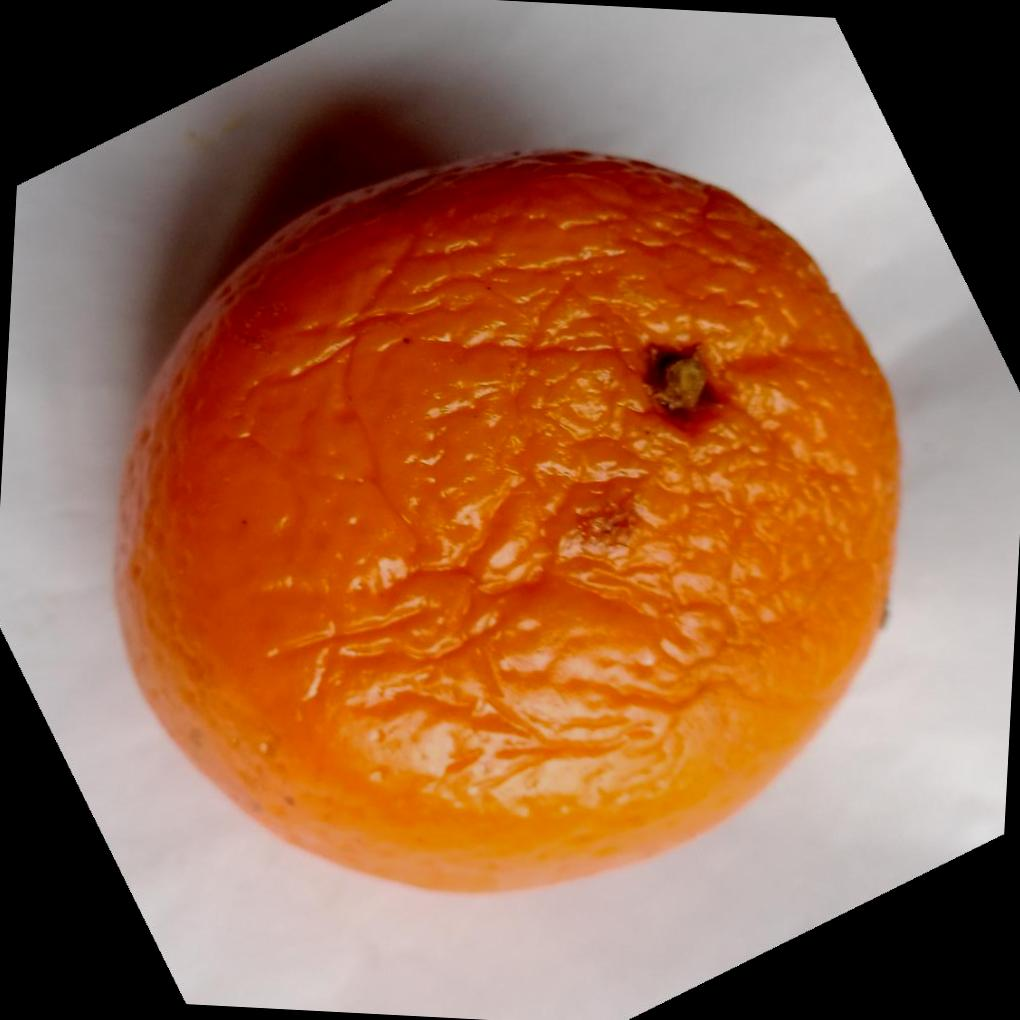FreshOrange: (114, 147, 908, 898)
